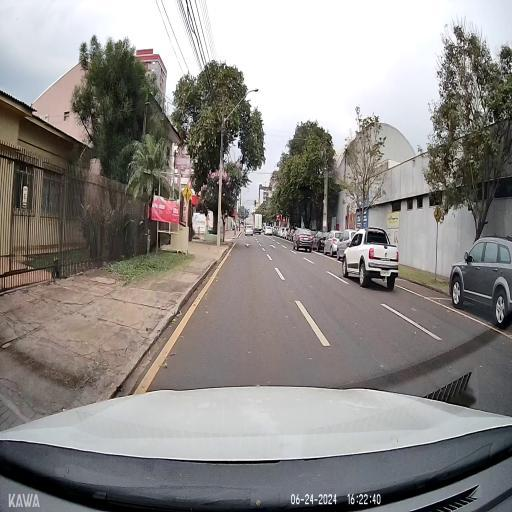A-32b: (182, 186, 192, 204)
